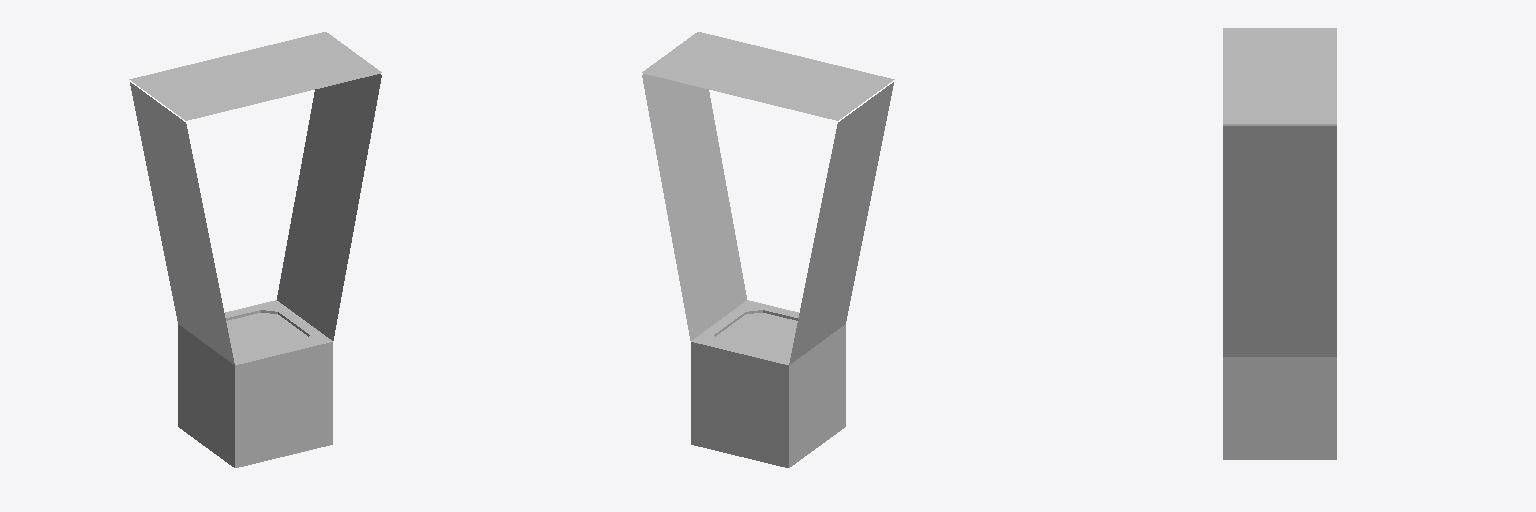
File: Space Hulk Acenssion inspired modular enviroemnt part 2V2.obj
3 views of the same model, side by side, from view 1: azimuth 30°, elevation 25°; view 2: azimuth 150°, elevation 25°; view 3: azimuth 270°, elevation 25° (orthographic).
Visible parts, largest first — view 1: Wall01_Plane.001, Cube, Plane_Plane.002, Floor01_Plane; view 2: Wall01_Plane.001, Cube, Plane_Plane.002, Floor01_Plane; view 3: Wall01_Plane.001, Cube, Plane_Plane.002.
Part boxes in pixels (x1,y1,x2,y2): Wall01_Plane.001: (130, 74, 381, 364); Cube: (178, 324, 332, 467); Plane_Plane.002: (129, 32, 381, 120); Floor01_Plane: (225, 300, 332, 364); Wall01_Plane.001: (642, 74, 893, 364); Cube: (691, 324, 845, 467); Plane_Plane.002: (642, 32, 894, 120); Floor01_Plane: (691, 300, 798, 364); Wall01_Plane.001: (1223, 124, 1336, 356); Cube: (1223, 357, 1336, 459); Plane_Plane.002: (1223, 28, 1336, 123).
Size of the model in its own units: 3 by 5.24 by 1.5.